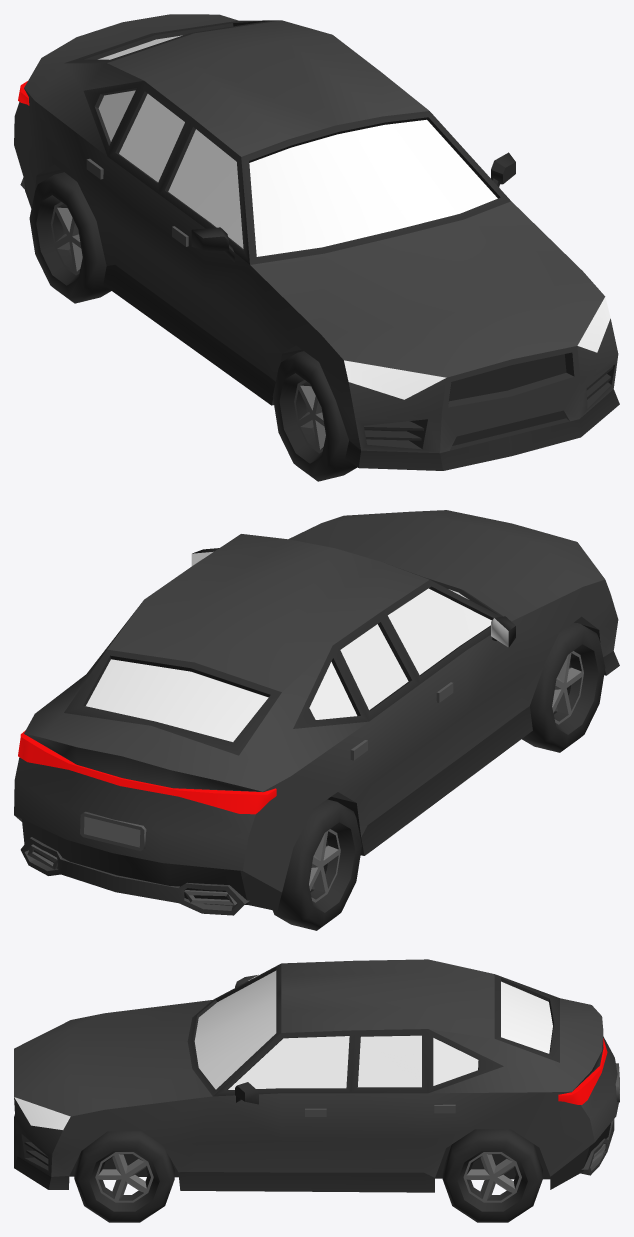
The model's file is coupe.glb.
3 renders of one model, top to bottom at view 1: azimuth 30°, elevation 25°; view 2: azimuth 150°, elevation 25°; view 3: azimuth 270°, elevation 25°, orthographic. The views are drawn at different scales.
Visible parts, largest first — view 1: coupe, wheels.024, wheels.025; view 2: coupe, wheels.024, wheels.025; view 3: coupe, wheels.035, wheels.034.
Part boxes in pixels (x1=…): coupe: x1=14, y1=14, x2=619, y2=470; wheels.024: x1=29, y1=172, x2=111, y2=303; wheels.025: x1=272, y1=351, x2=357, y2=481; coupe: x1=14, y1=510, x2=619, y2=915; wheels.024: x1=272, y1=799, x2=361, y2=930; wheels.025: x1=522, y1=622, x2=605, y2=752; coupe: x1=14, y1=959, x2=619, y2=1192; wheels.035: x1=442, y1=1129, x2=542, y2=1222; wheels.034: x1=74, y1=1131, x2=174, y2=1222.
Bounding box in the file's own units: 2.35 × 1.74 × 5.14.
3 materials, 2 textured.
